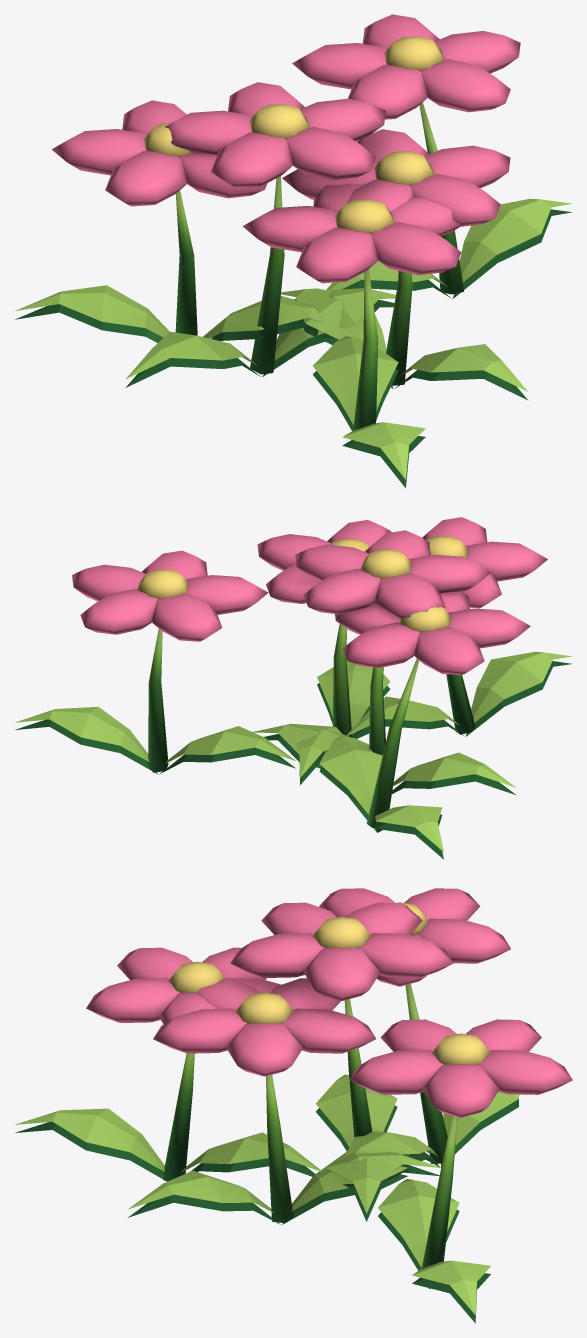
File: Env_Flowers_5.glb
3 renders of one model, top to bottom at view 1: azimuth 30°, elevation 25°; view 2: azimuth 150°, elevation 25°; view 3: azimuth 270°, elevation 25°, orthographic. The views are drawn at different scales.
Visible parts, largest first — view 1: Env_Flowers_5.001; view 2: Env_Flowers_5.001; view 3: Env_Flowers_5.001.
Part boxes in pixels (x1,y1,x2,y2): Env_Flowers_5.001: (14,14,571,487); Env_Flowers_5.001: (15,517,572,859); Env_Flowers_5.001: (14,888,572,1323).
Bounding box in the file's own units: 1.6 × 0.8035 × 1.53.
Materials: 1 (1 with a texture image).
